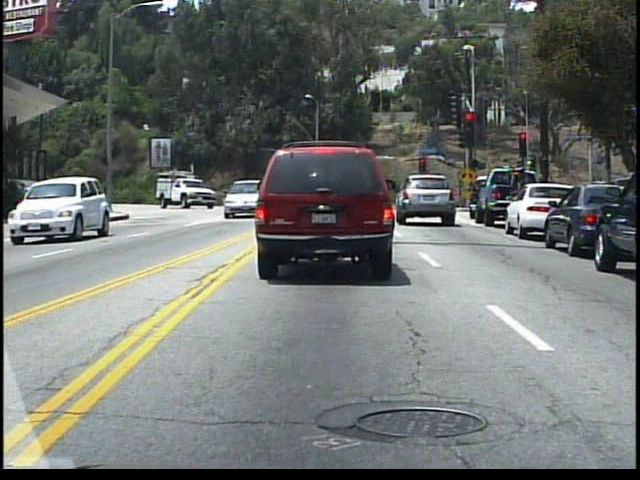person: (459, 179, 471, 208)
